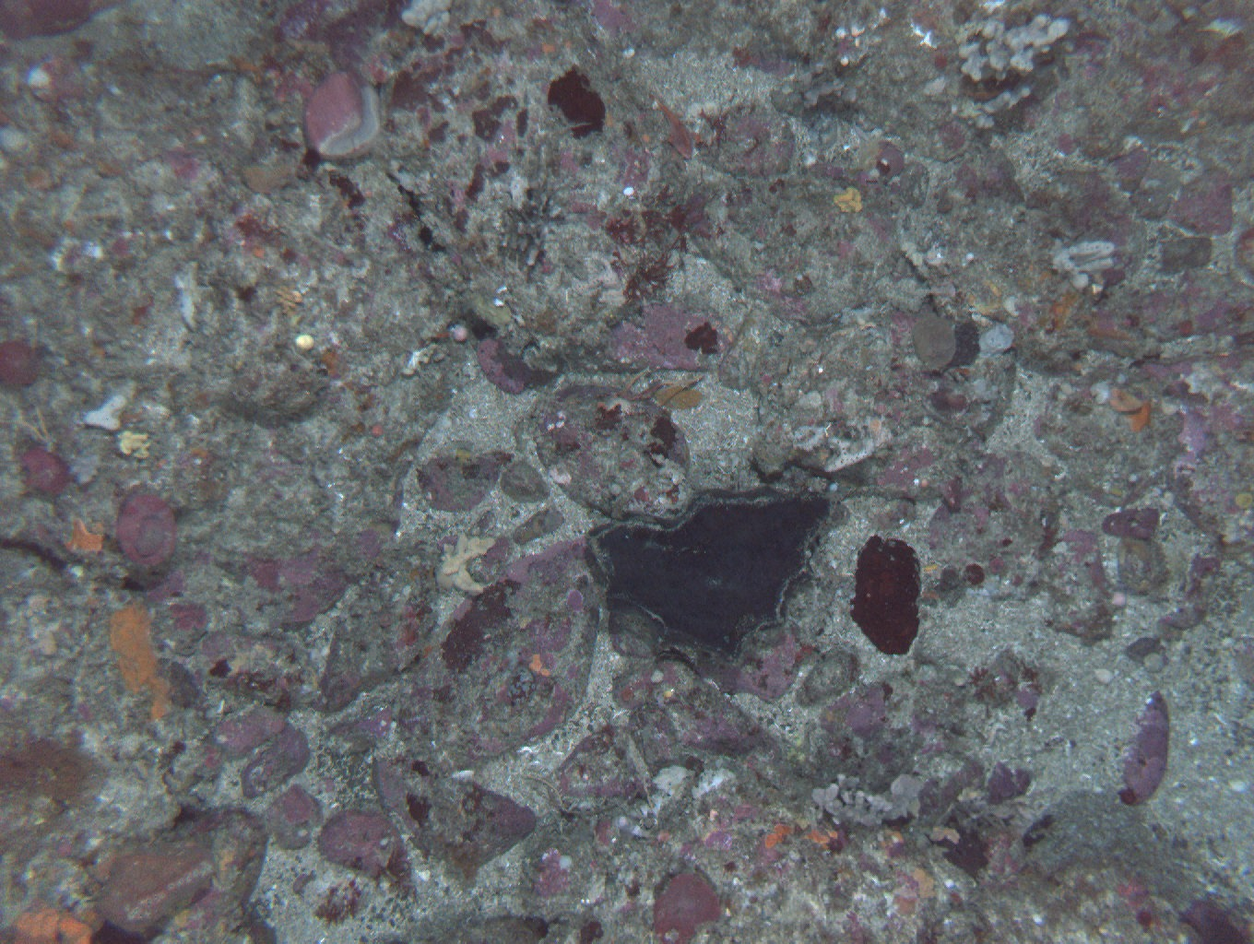Brachionichthyidae: (655, 97, 705, 162)
